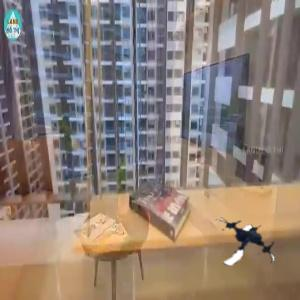drone: (211, 208, 280, 277)
